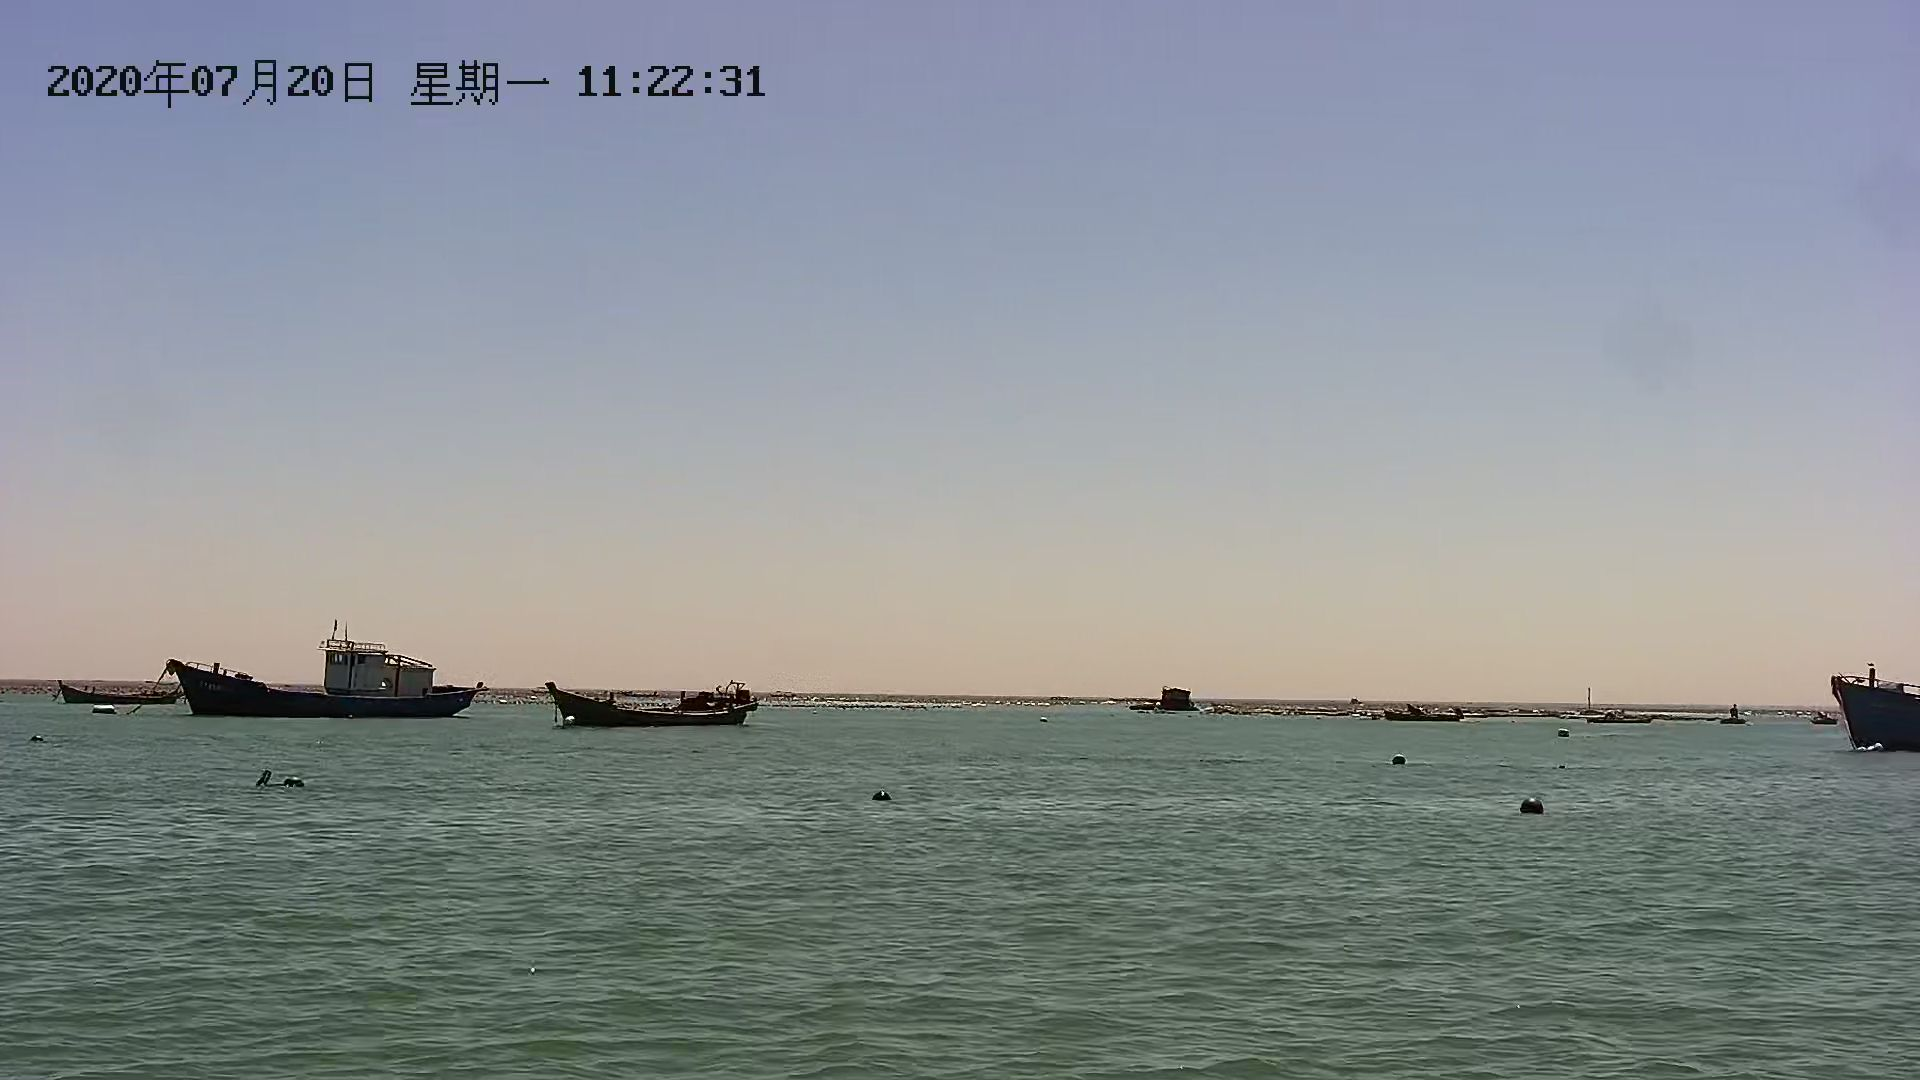ball: (1514, 790, 1548, 816), (268, 767, 307, 790), (1389, 750, 1407, 767), (868, 785, 891, 796)
boat: (171, 641, 491, 717), (534, 666, 766, 731), (1807, 665, 1919, 748), (44, 670, 187, 709)
platform: (1381, 707, 1474, 728), (1134, 682, 1203, 709)
